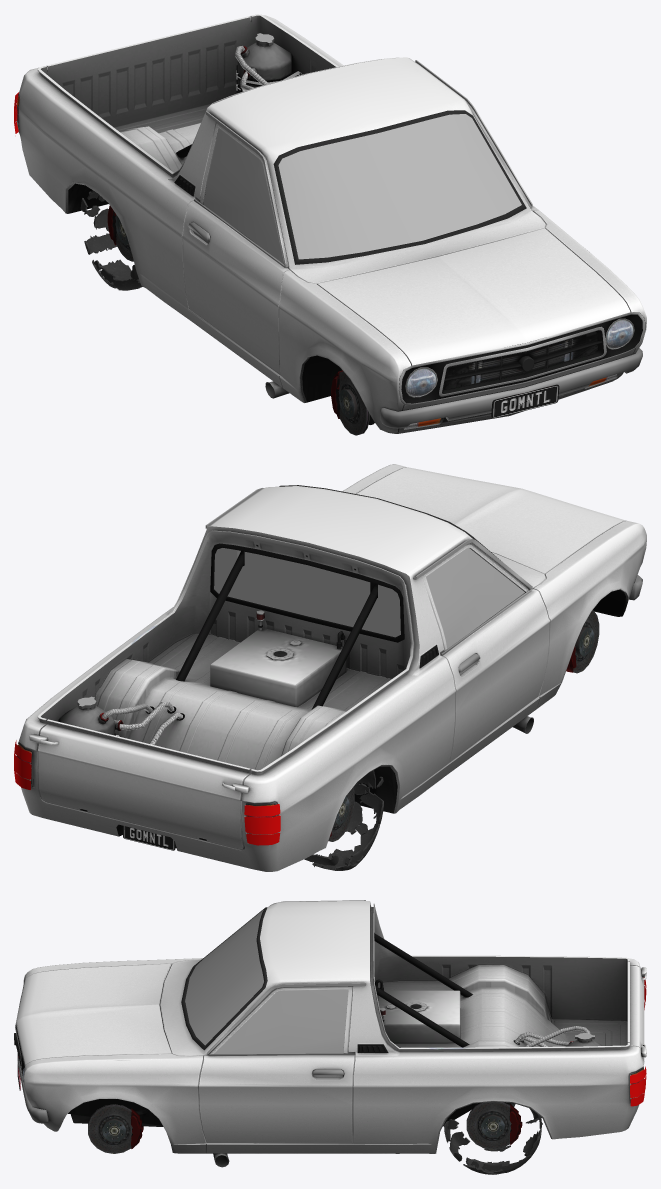
File: 37_GomntlDato.fbx
3 renders of one model, top to bottom at view 1: azimuth 30°, elevation 25°; view 2: azimuth 150°, elevation 25°; view 3: azimuth 270°, elevation 25°, orthographic. The views are drawn at different scales.
Visible parts, largest first — view 1: Body_Duco, Body_Glass, Body_Kit, Body_Chrome, Body_Glossy, Body_Matte, Body_Plastic, Body, Rotor, NumberPlate (1); view 2: Body_Duco, Body_Plastic, Body_Glass, Body_Kit, Body, Body_Glossy, BrakeLights, Body_Matte, Body_Chrome, Rotor (×2), NumberPlate; view 3: Body_Duco, Body_Kit, Body_Glass, Body_Plastic, Rotor (×2), Body, Body_Glossy, Body_Chrome, Body_Matte, BrakeLights.
Boxes of the visible parts, x1=… form: Body_Duco: x1=18, y1=14, x2=646, y2=433; Body_Glass: x1=203, y1=114, x2=521, y2=262; Body_Kit: x1=317, y1=228, x2=630, y2=365; Body_Chrome: x1=16, y1=60, x2=644, y2=428; Body_Glossy: x1=16, y1=33, x2=645, y2=428; Body_Matte: x1=68, y1=183, x2=597, y2=433; Body_Plastic: x1=114, y1=103, x2=211, y2=172; Body: x1=236, y1=42, x2=301, y2=93; Rotor: x1=338, y1=371, x2=369, y2=435; NumberPlate (1): x1=491, y1=384, x2=559, y2=418; Body_Duco: x1=19, y1=464, x2=646, y2=871; Body_Plastic: x1=95, y1=633, x2=391, y2=773; Body_Glass: x1=214, y1=548, x2=524, y2=648; Body_Kit: x1=356, y1=467, x2=626, y2=574; Body: x1=59, y1=628, x2=346, y2=736; Body_Glossy: x1=16, y1=554, x2=438, y2=834; BrakeLights: x1=14, y1=740, x2=280, y2=845; Body_Matte: x1=116, y1=551, x2=625, y2=848; Body_Chrome: x1=18, y1=488, x2=642, y2=833; Rotor (×2): x1=328, y1=610, x2=599, y2=841; NumberPlate: x1=123, y1=825, x2=175, y2=850; Body_Duco: x1=23, y1=901, x2=646, y2=1153; Body_Kit: x1=16, y1=963, x2=171, y2=1065; Body_Glass: x1=185, y1=909, x2=348, y2=1054; Body_Plastic: x1=377, y1=965, x2=627, y2=1047; Rotor (×2): x1=88, y1=1102, x2=511, y2=1153; Body: x1=377, y1=990, x2=602, y2=1046; Body_Glossy: x1=14, y1=933, x2=643, y2=1098; Body_Chrome: x1=15, y1=900, x2=643, y2=1167; Body_Matte: x1=68, y1=995, x2=528, y2=1166; BrakeLights: x1=630, y1=977, x2=646, y2=1106.
Size of what is drawn, in the model's own units: 1.56 by 1.3 by 3.84.
